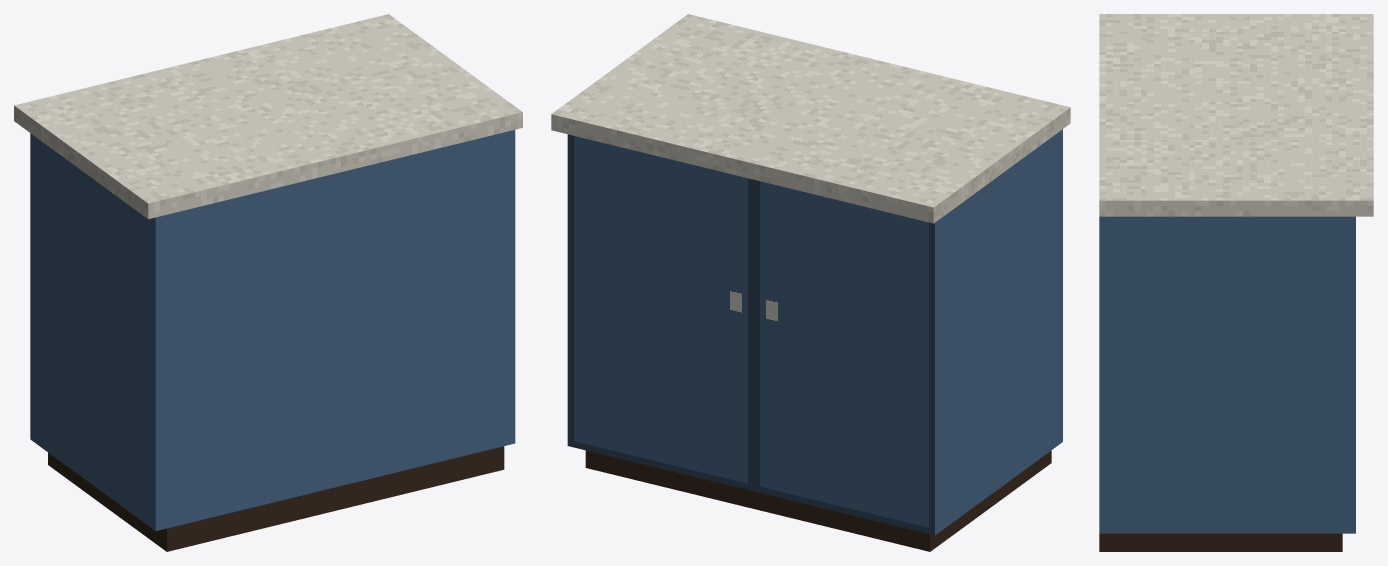
The model's file is f_cupboard.glb.
3 renders of one model, left to right at view 1: azimuth 30°, elevation 25°; view 2: azimuth 150°, elevation 25°; view 3: azimuth 270°, elevation 25°, orthographic. The views are drawn at different scales.
Visible parts, largest first — view 1: block_body, block_top, block_body-plinth; view 2: block_body, block_top, block_body-plinth; view 3: block_body, block_top, block_body-plinth.
Part boxes in pixels (x1=…): block_body: x1=30, y1=130, x2=515, y2=530; block_top: x1=14, y1=14, x2=522, y2=219; block_body-plinth: x1=48, y1=446, x2=504, y2=551; block_body: x1=567, y1=129, x2=1062, y2=535; block_top: x1=551, y1=14, x2=1070, y2=223; block_body-plinth: x1=585, y1=450, x2=1051, y2=551; block_body: x1=1099, y1=216, x2=1355, y2=533; block_top: x1=1099, y1=14, x2=1373, y2=216; block_body-plinth: x1=1099, y1=533, x2=1342, y2=551.
Bounding box in the file's own units: 1 × 0.9 × 0.62.
1 material, 1 textured.
